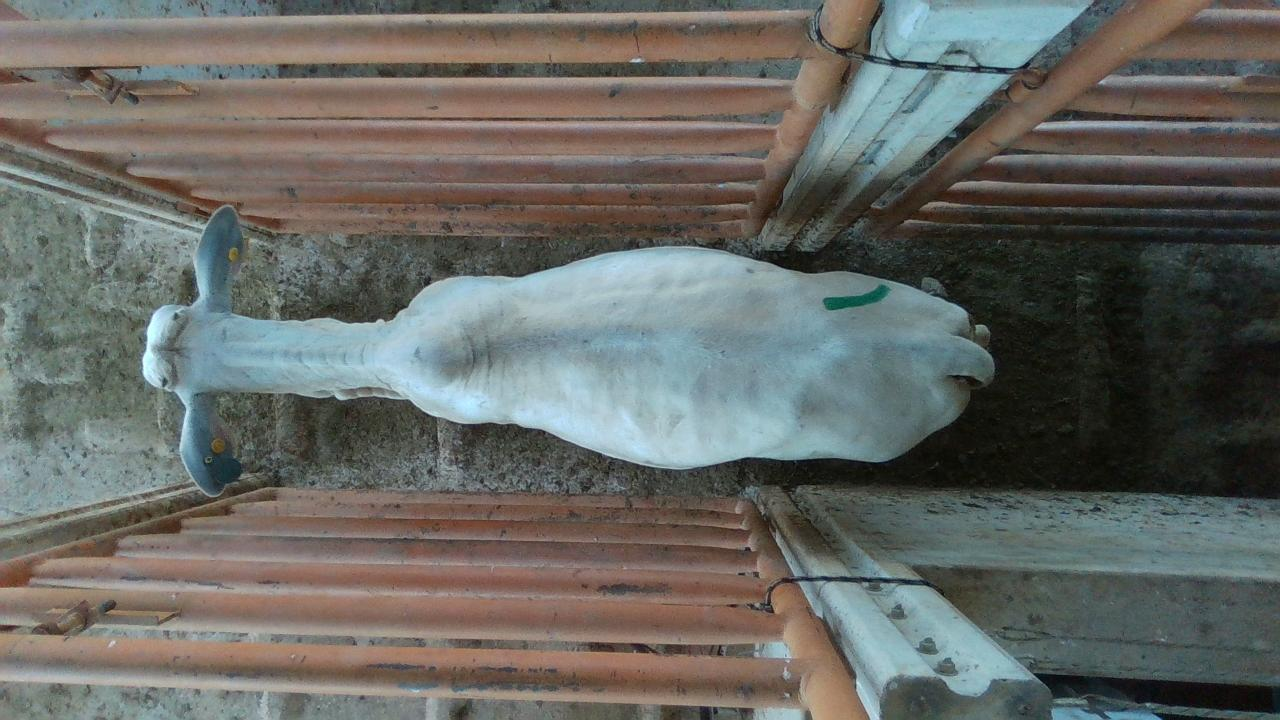cattle: (140, 202, 996, 497)
